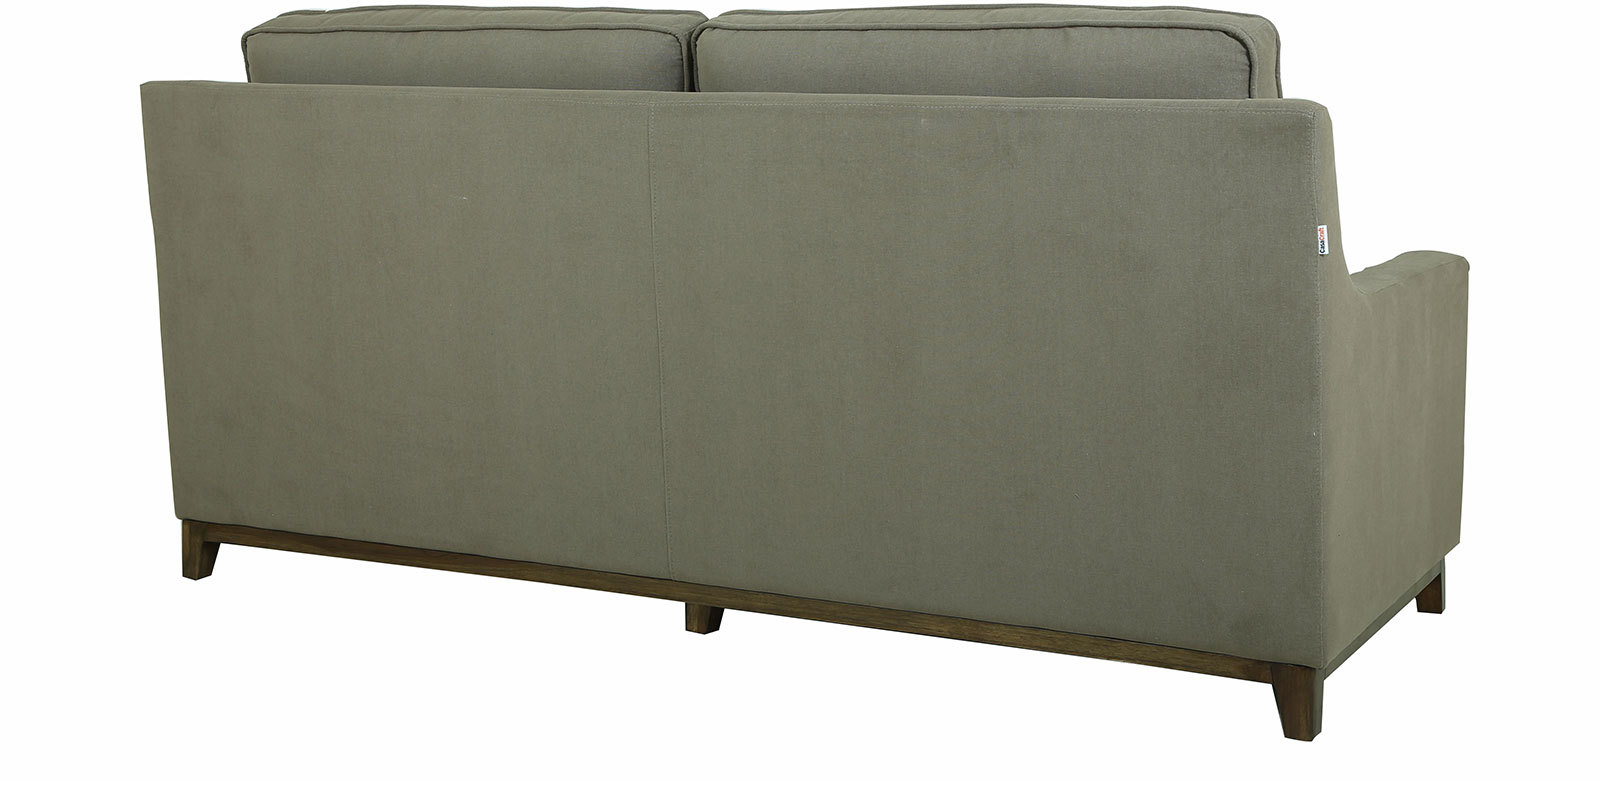Diego Three Seater Sofa in Sandy Colour by CasaCraft: (126, 1, 1516, 758)
